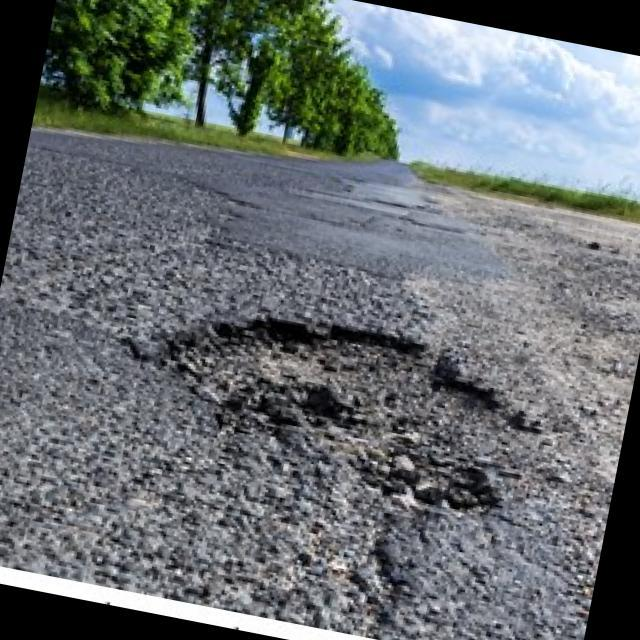Pothole: (132, 288, 542, 534)
